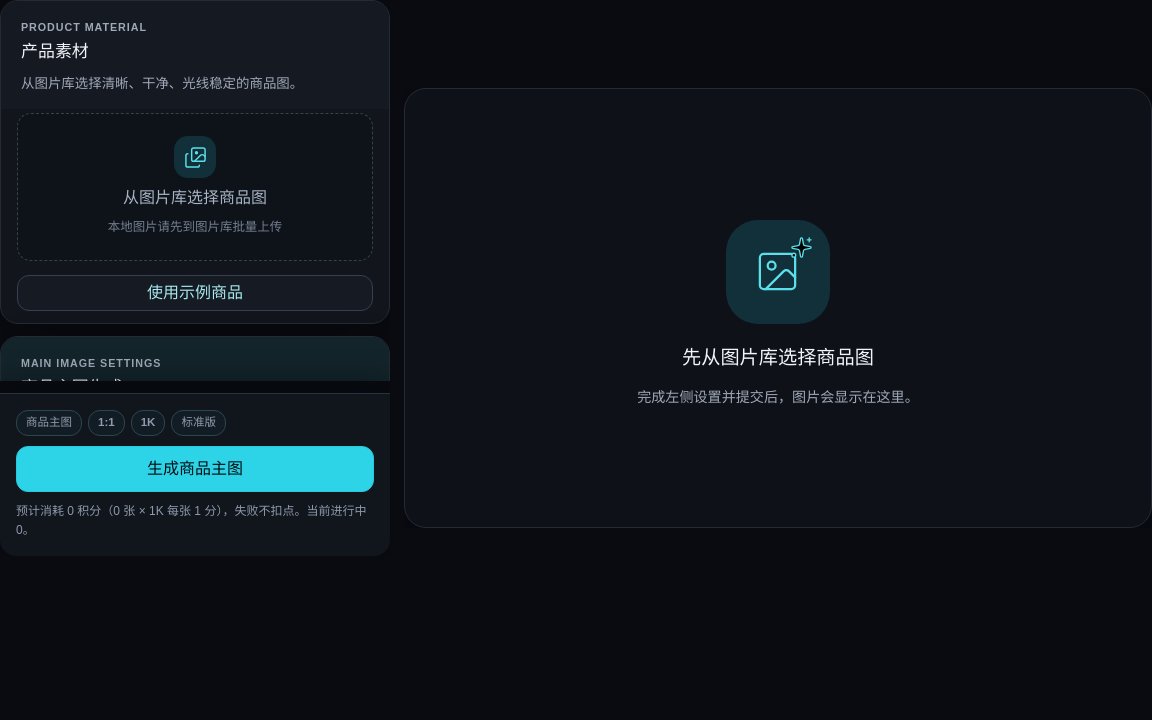
Test case: Workspace › removes the selected product material and disables generation
Click the button "使用示例商品": x=195, y=293 x1=17 y1=275 x2=373 y2=311
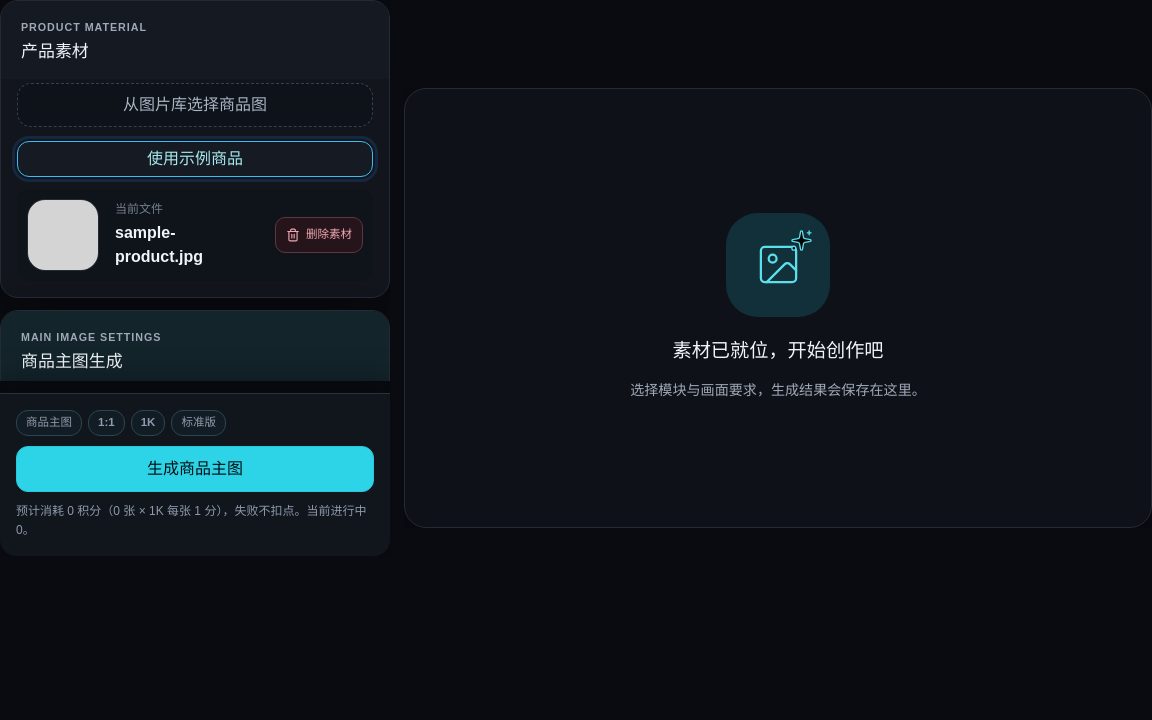
Click the button with aria-label "删除当前商品素材": x=319, y=234 x1=275 y1=216 x2=363 y2=252
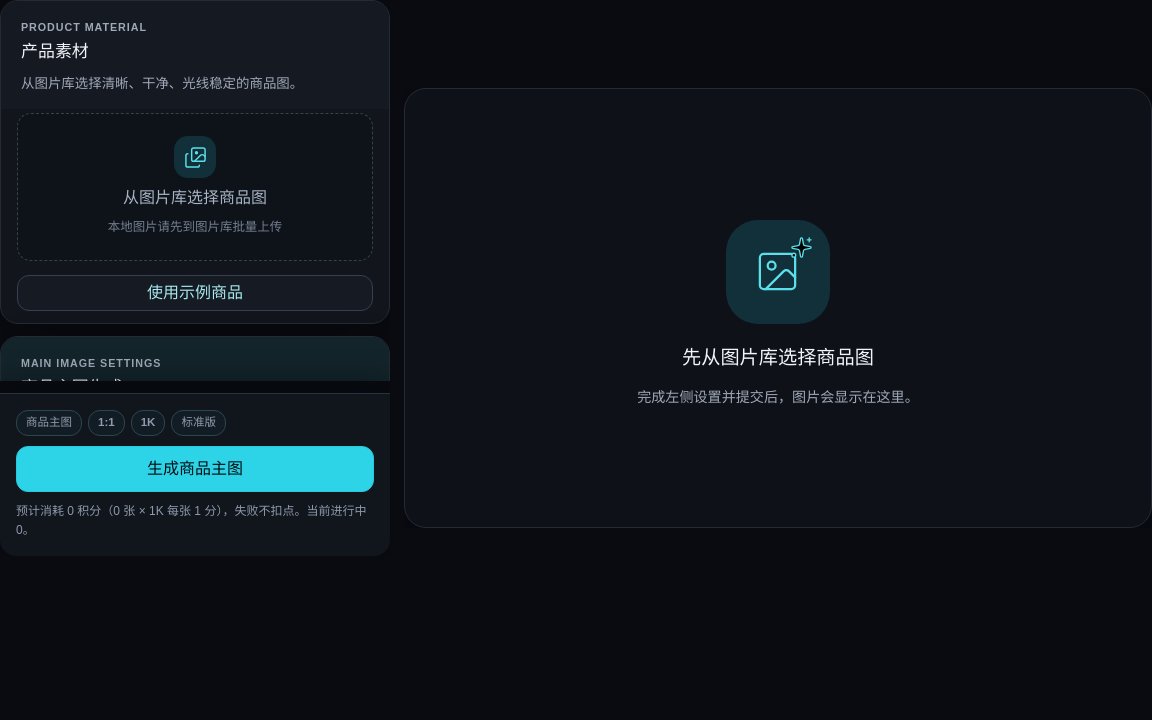
Expected: the button "生成商品主图" is disabled, x1=16 y1=446 x2=374 y2=492
Result: the picture with alt text "当前商品图" is gone
